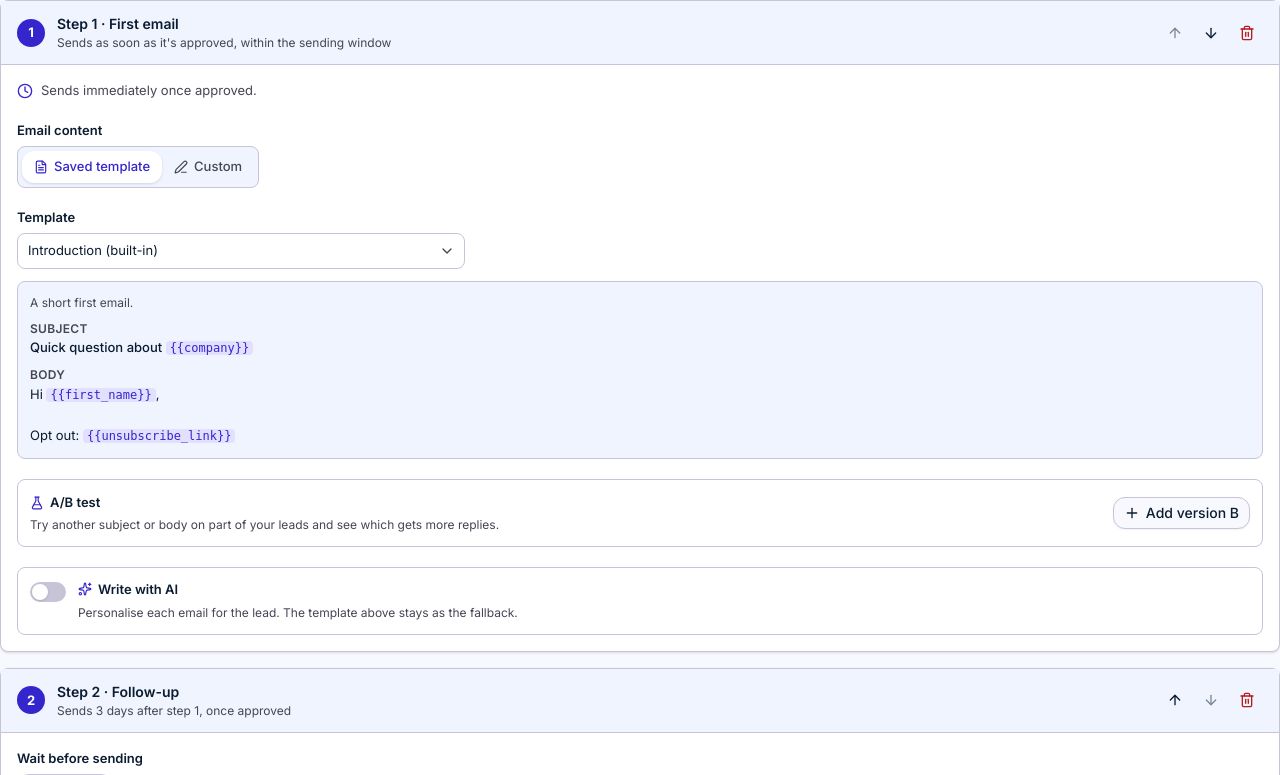
Test case: CampaignStepEditor › shows AI instructions only when Write with AI is on
Check: the field labelled "Instructions for the AI draft" is not shown
What coordinates should you click on to do the following:
click the switch labelled "Write with AI"
I would click on:
 (48, 592)
Its box is [30,580,518,620].
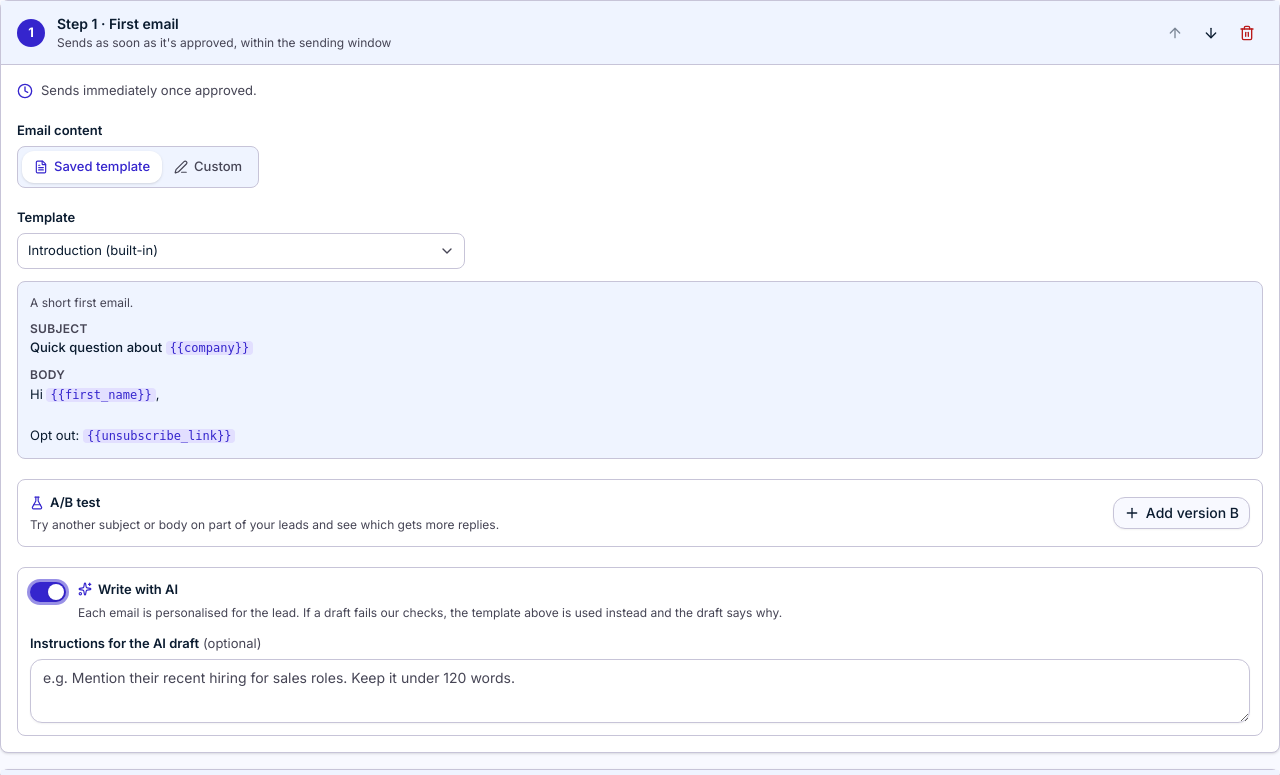
Check: the text box labelled "Instructions for the AI draft(optional)" is shown, box [30,659,1250,723]
Check: the text "the template above is used instead" is shown, box [78,605,782,620]
